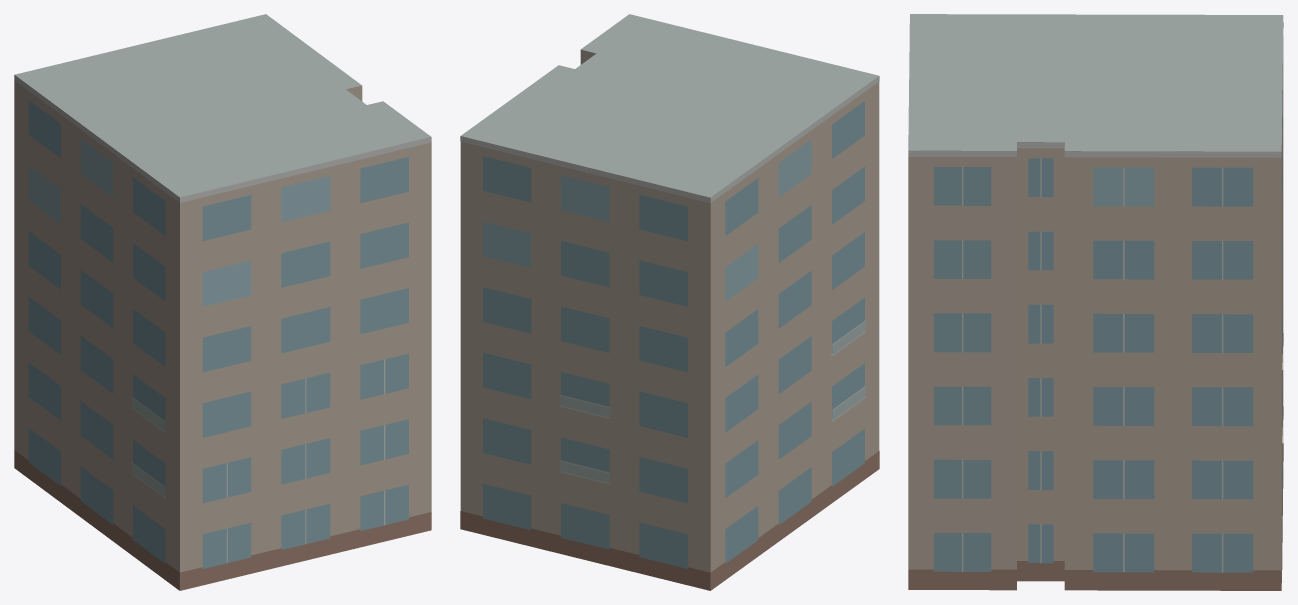
File: survey-upis-32737788.glb
3 views of the same model, side by side, from view 1: azimuth 30°, elevation 25°; view 2: azimuth 150°, elevation 25°; view 3: azimuth 270°, elevation 25° (orthographic). The views are drawn at different scales.
Visible parts, largest first — view 1: survey-upis-32737788.tmp; view 2: survey-upis-32737788.tmp; view 3: survey-upis-32737788.tmp.
Boxes of the visible parts, x1,y1,x2,y2 form: survey-upis-32737788.tmp: (14, 14, 431, 590); survey-upis-32737788.tmp: (460, 14, 879, 590); survey-upis-32737788.tmp: (908, 14, 1283, 590).
Bounding box in the file's own units: 11.73 × 17.4 × 13.49.
